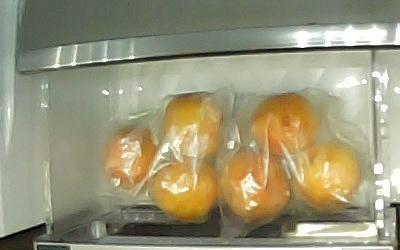peach_vinyl: (222, 152, 290, 219), (159, 94, 227, 159), (151, 161, 218, 224), (249, 94, 320, 152), (294, 146, 359, 208), (100, 128, 155, 191)
